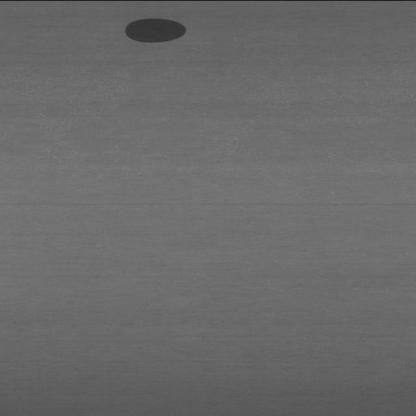oil_spot: (114, 13, 206, 47)
